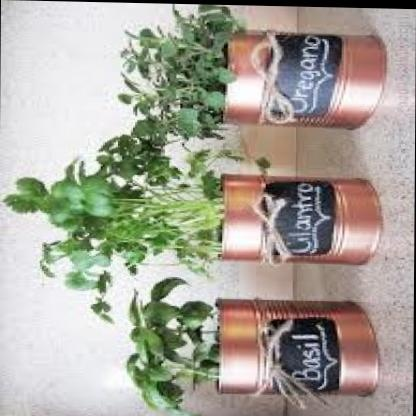trash: (226, 32, 385, 128), (217, 299, 377, 394), (223, 175, 381, 263)
